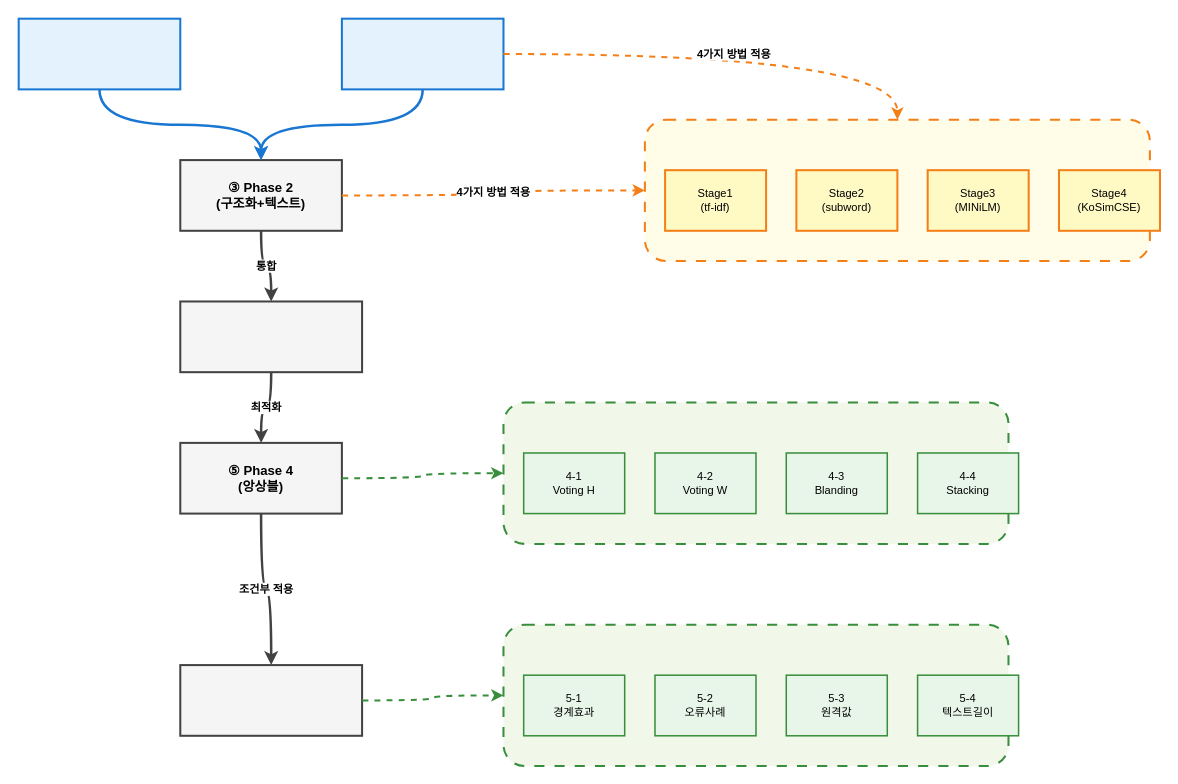
Image size: 1178x784. Some labels were removed from this diagram. Here are the shapes that lost their labels. From the top down, the box of each, then its label:
(17, 17, 181, 90): ① Phase 0 (구조화단독)
(340, 17, 504, 90): ② Phase 1 (텍스트단독)
(643, 118, 1150, 262): 텍스트 임베딩 방법
(179, 300, 363, 373): ④ Phase 3 (하이퍼파라미터튜닝)
(502, 401, 1009, 544): Phase 4 세부 기법
(179, 664, 363, 736): ⑥ Phase 5 (텍스트 조건부 추가)
(502, 623, 1009, 767): Phase 5 세부 기법
